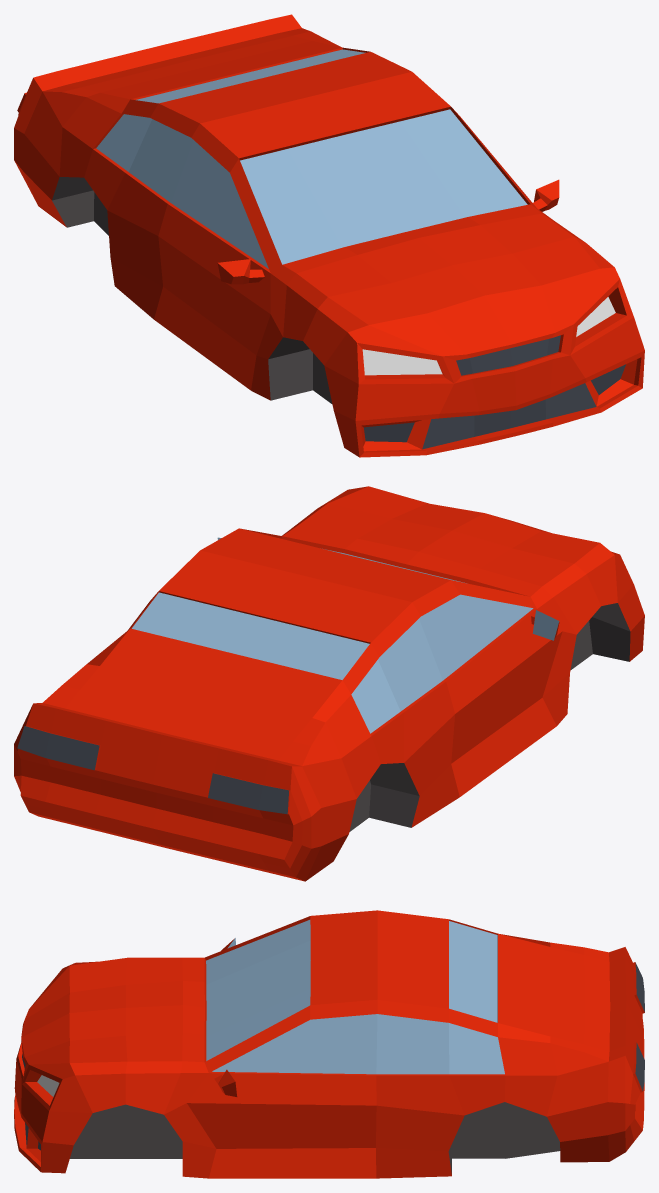
The model's file is carV2_fbx.fbx.
3 views of the same model, one above another, from view 1: azimuth 30°, elevation 25°; view 2: azimuth 150°, elevation 25°; view 3: azimuth 270°, elevation 25° (orthographic). The views are drawn at different scales.
Parts seen in each view (by area): view 1: Car; view 2: Car; view 3: Car.
Part boxes in pixels (x1=…): Car: x1=14, y1=14, x2=644, y2=457; Car: x1=14, y1=486, x2=644, y2=881; Car: x1=14, y1=910, x2=644, y2=1178.
Bounding box in the file's own units: 235 × 121 × 434.
